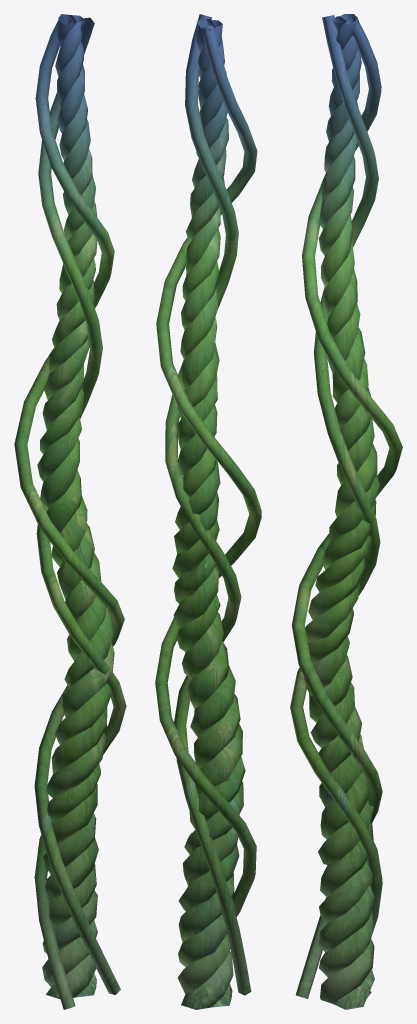
File: beanstalk.fbx
3 renders of one model, left to right at view 1: azimuth 90°, elevation 25°; view 2: azimuth 210°, elevation 25°; view 3: azimuth 270°, elevation 25°, orthographic.
Visible parts, largest first — view 1: JUN_MAME_NOCOLI; view 2: JUN_MAME_NOCOLI; view 3: JUN_MAME_NOCOLI.
Part boxes in pixels (<box>): JUN_MAME_NOCOLI: <box>14,14,126,1009</box>; JUN_MAME_NOCOLI: <box>155,14,261,1009</box>; JUN_MAME_NOCOLI: <box>290,14,402,1009</box>.
Size of the model in its own units: 1414 by 14157 by 1474.
